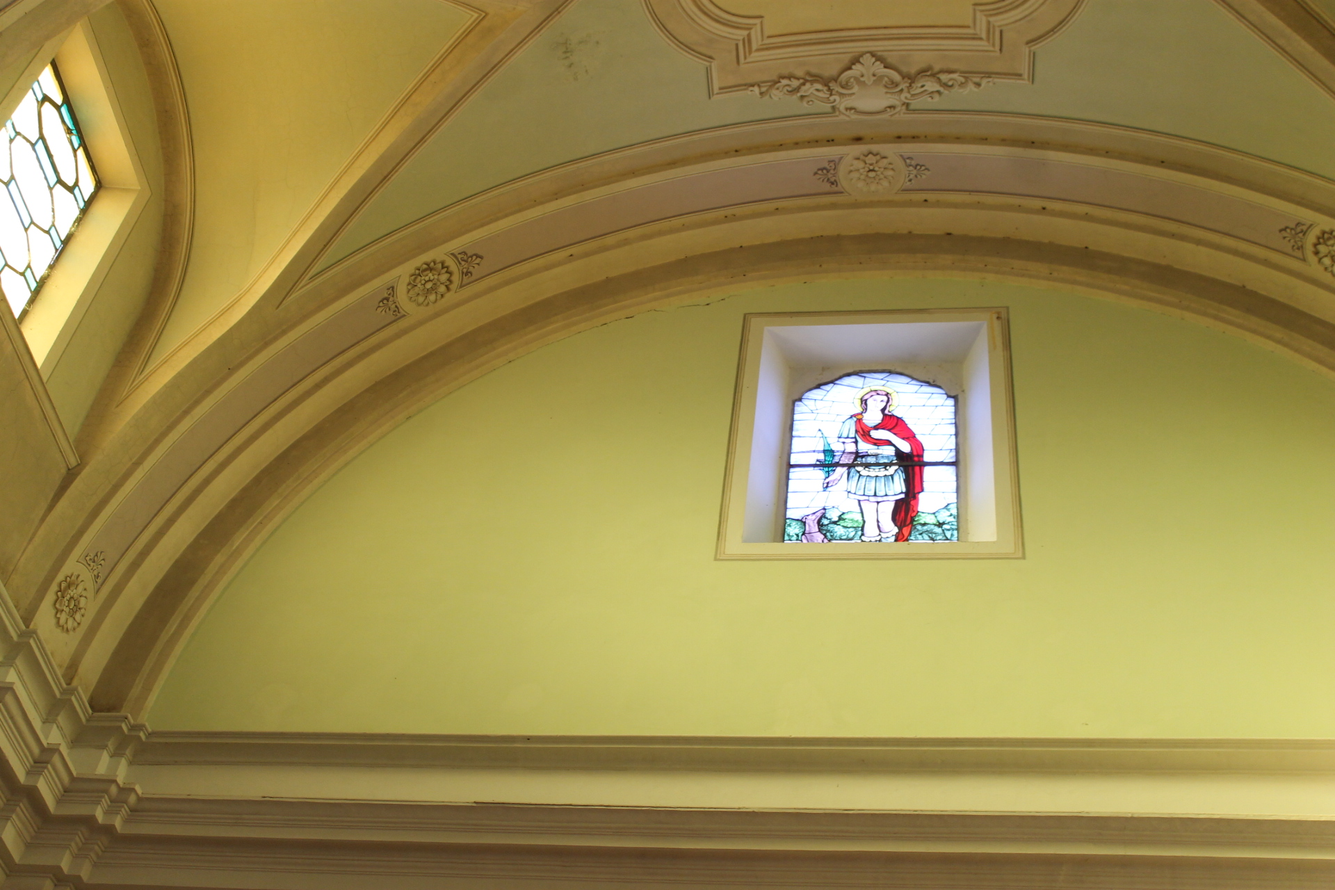Crack: (474, 255, 808, 380)
